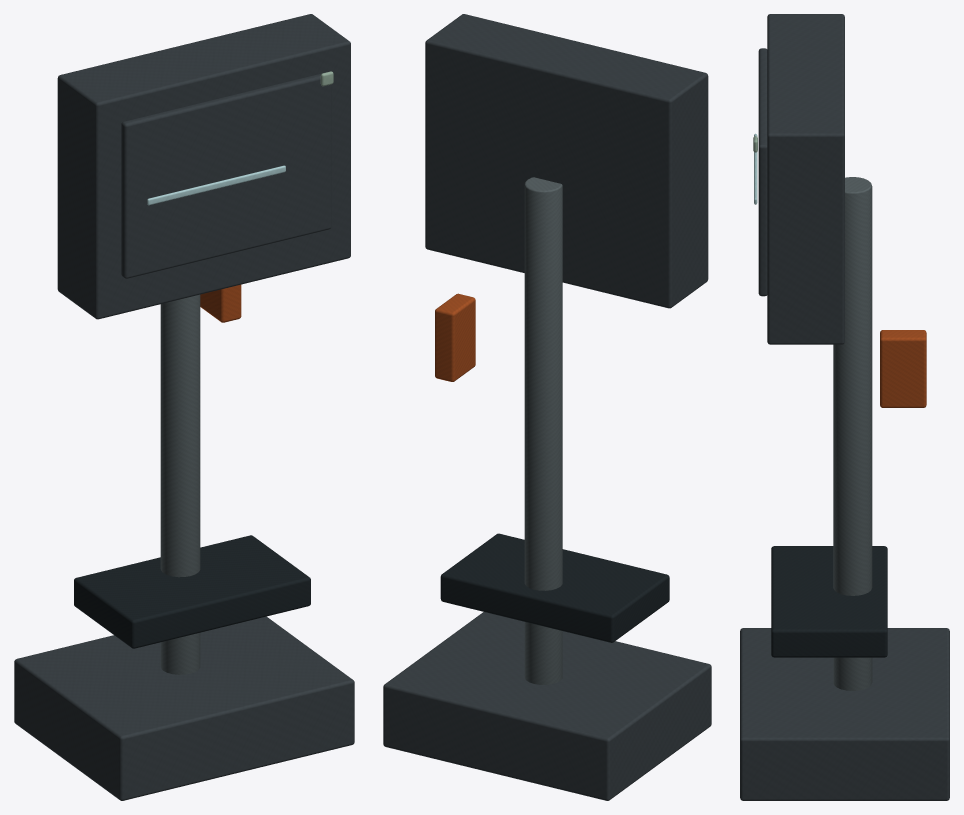
The model's file is MobileMedicalMonitor.fbx.
The picture shows the model from 3 angles, left to right: view 1: azimuth 30°, elevation 25°; view 2: azimuth 150°, elevation 25°; view 3: azimuth 270°, elevation 25°; orthographic projection. The views are drawn at different scales.
Parts seen in each view (by area): view 1: MobileMedicalMonitor_Mesh; view 2: MobileMedicalMonitor_Mesh; view 3: MobileMedicalMonitor_Mesh.
Boxes of the visible parts, x1,y1,x2,y2 form: MobileMedicalMonitor_Mesh: [14, 14, 354, 800]; MobileMedicalMonitor_Mesh: [383, 14, 711, 800]; MobileMedicalMonitor_Mesh: [740, 14, 949, 800].
Size of the model in its own units: 74 by 191 by 54.
6 materials, 6 textured.
